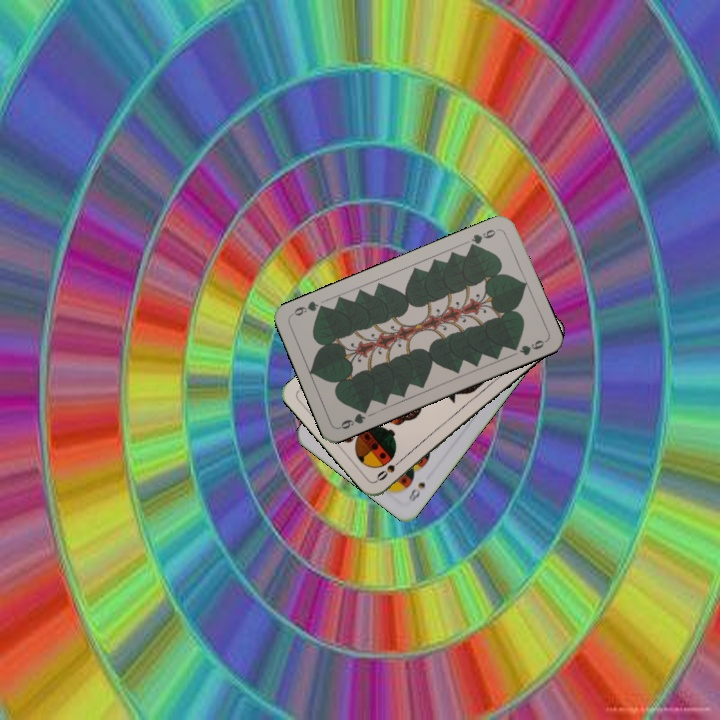G9: (335, 404, 371, 432), (465, 225, 501, 252)
S8: (405, 478, 428, 505)
SO: (372, 453, 407, 484)
